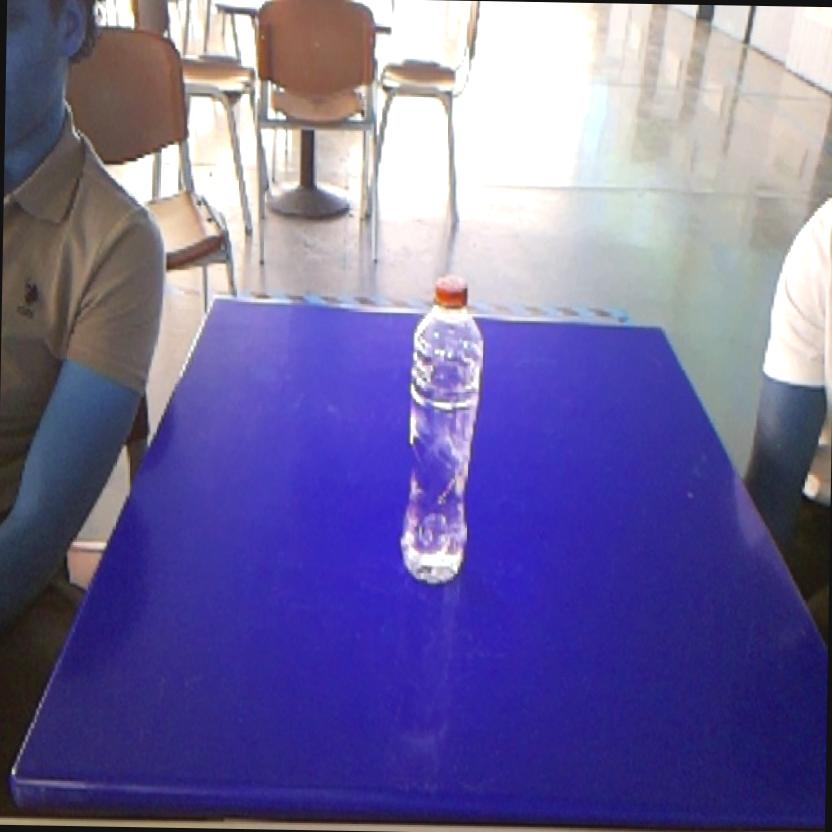no_label: (392, 260, 492, 594)
